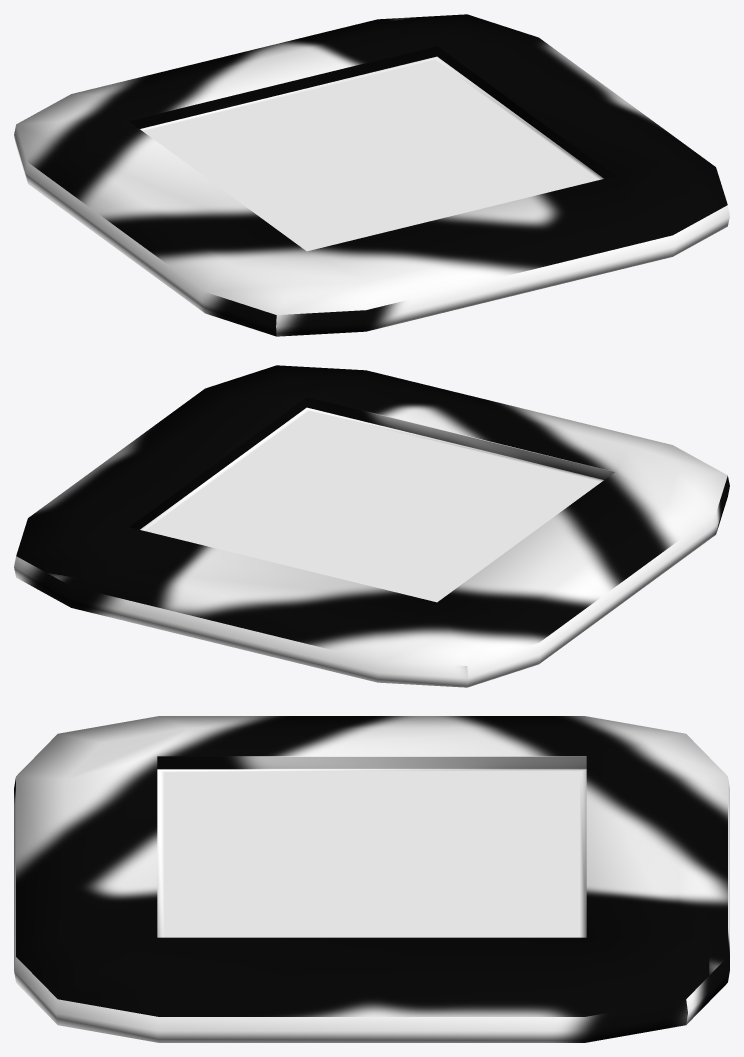
File: control_token.obj
The picture shows the model from 3 angles, top to bottom: view 1: azimuth 30°, elevation 25°; view 2: azimuth 150°, elevation 25°; view 3: azimuth 270°, elevation 25°; orthographic projection. The views are drawn at different scales.
Parts seen in each view (by area): view 1: Cube_Cube.001; view 2: Cube_Cube.001; view 3: Cube_Cube.001.
Boxes of the visible parts, <box> form: Cube_Cube.001: <box>14,14,729,336</box>; Cube_Cube.001: <box>14,365,729,687</box>; Cube_Cube.001: <box>14,716,729,1042</box>.
Size of the model in its own units: 1 by 0.1 by 1.
